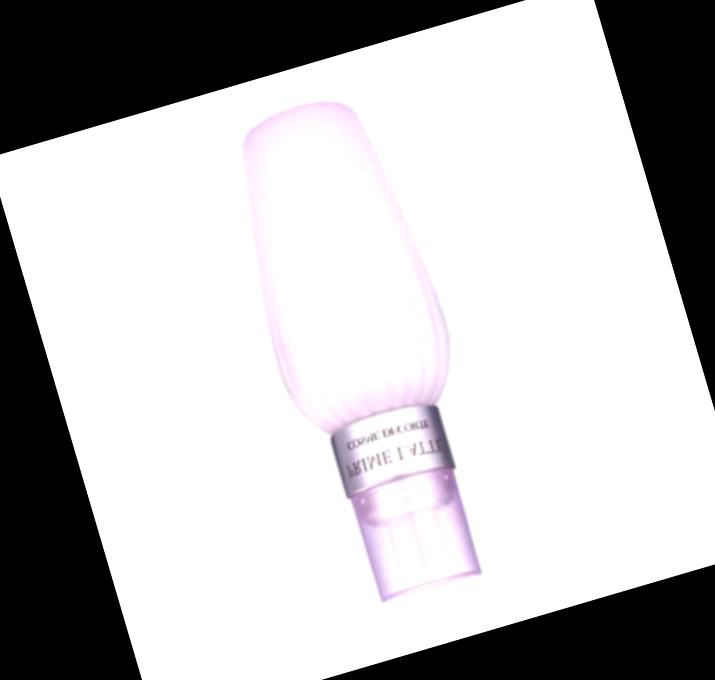cosmetic: (219, 80, 514, 615)
